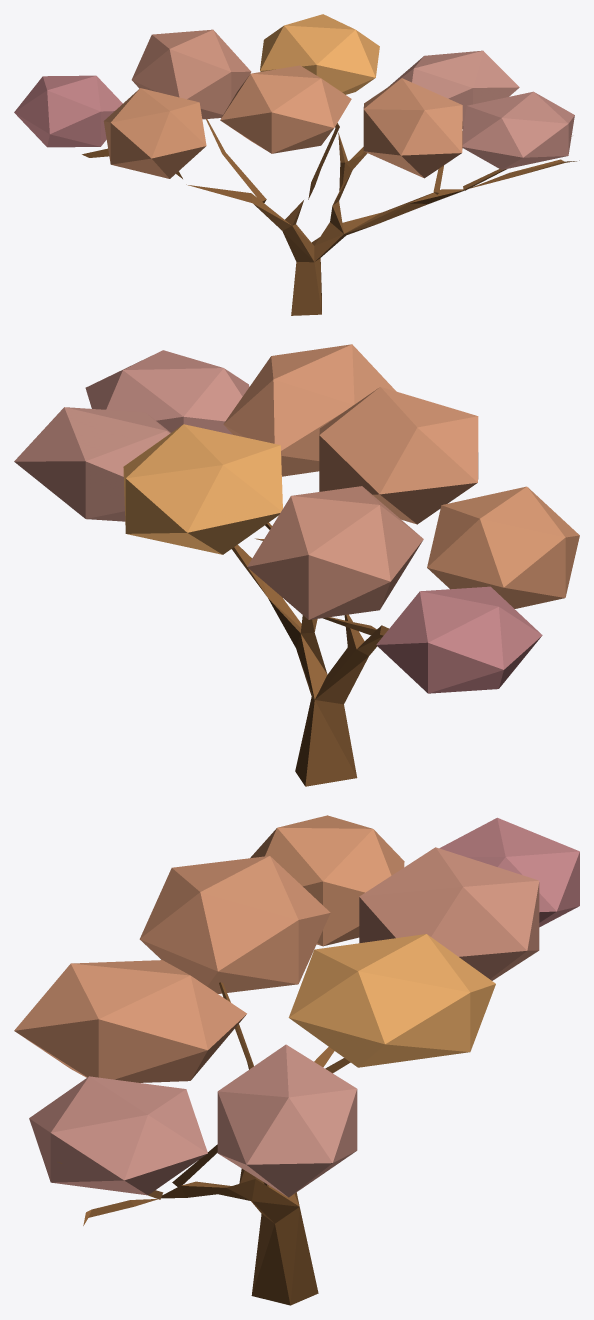
File: jacaranda_4_autumn_far.glb
The picture shows the model from 3 angles, top to bottom: view 1: azimuth 30°, elevation 25°; view 2: azimuth 150°, elevation 25°; view 3: azimuth 270°, elevation 25°; orthographic projection. The views are drawn at different scales.
Visible parts, largest first — view 1: jacaranda_4_autumn_far; view 2: jacaranda_4_autumn_far; view 3: jacaranda_4_autumn_far.
Boxes of the visible parts, box(x1,y1,x2,y2) form: jacaranda_4_autumn_far: box(14, 14, 579, 315); jacaranda_4_autumn_far: box(14, 344, 579, 786); jacaranda_4_autumn_far: box(14, 815, 579, 1305).
Size of the model in its own units: 10.06 by 5.71 by 7.49.
